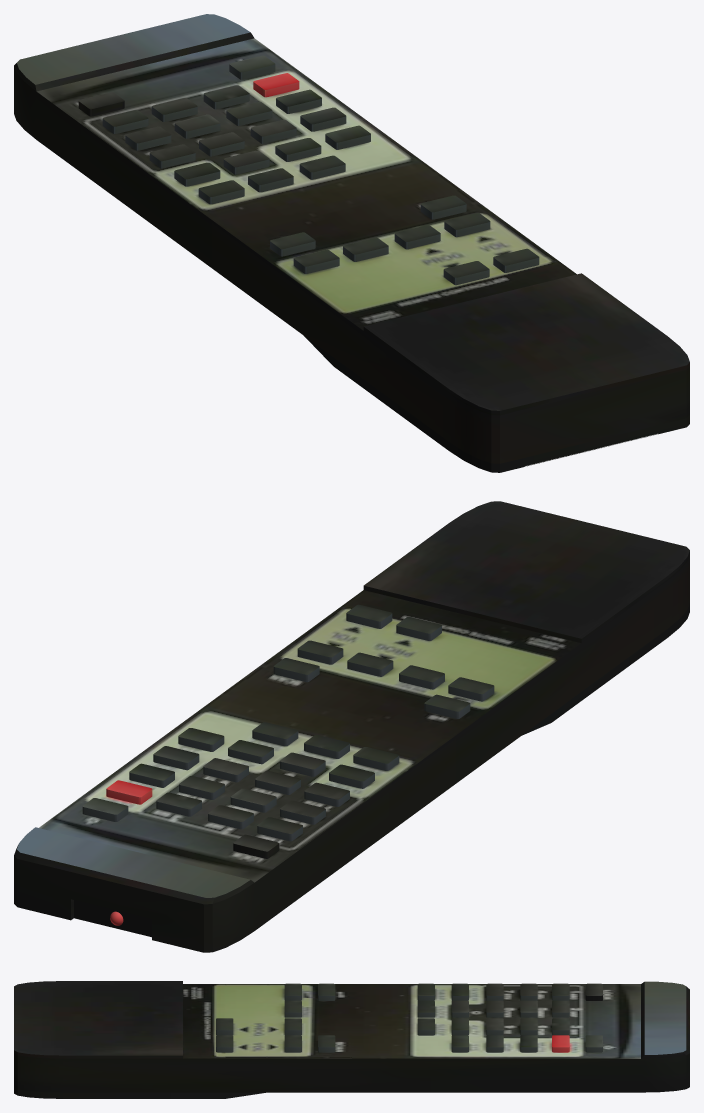
File: soviet_tv_remote_control__low_poly_game_asset.glb
3 renders of one model, top to bottom at view 1: azimuth 30°, elevation 25°; view 2: azimuth 150°, elevation 25°; view 3: azimuth 270°, elevation 25°, orthographic. The views are drawn at different scales.
Visible parts, largest first — view 1: Remote; view 2: Remote; view 3: Remote.
Part boxes in pixels (x1=…): Remote: x1=14, y1=14, x2=689, y2=472; Remote: x1=14, y1=501, x2=689, y2=952; Remote: x1=14, y1=981, x2=689, y2=1098.
Size of the model in its own units: 5.39 by 1.53 by 20.65.
Materials: 1 (1 with a texture image).
